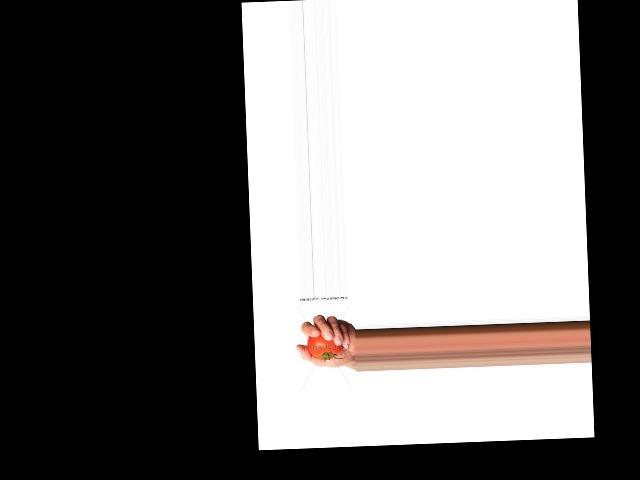tomato: (306, 334, 343, 360)
